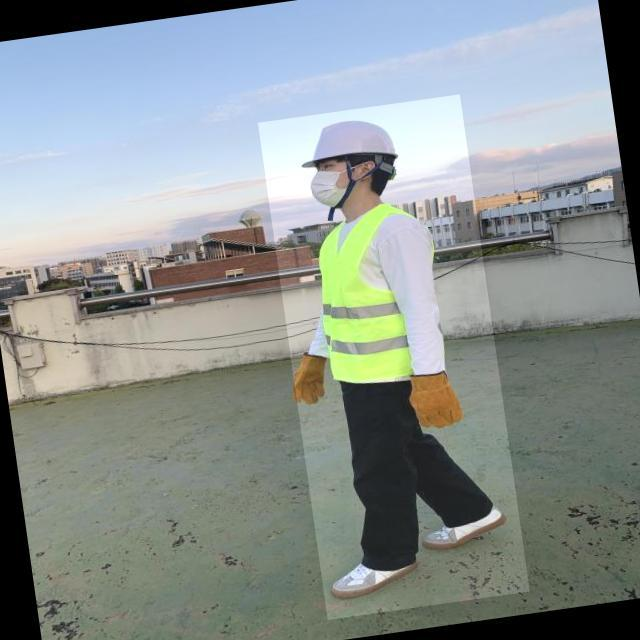Gloves: (397, 366, 466, 441), (285, 348, 340, 409)
Helmet: (295, 114, 400, 174)
Person: (263, 90, 534, 616)
Safety Boot: (326, 555, 423, 602), (419, 504, 511, 553)
Safety Vest: (310, 198, 451, 388)
